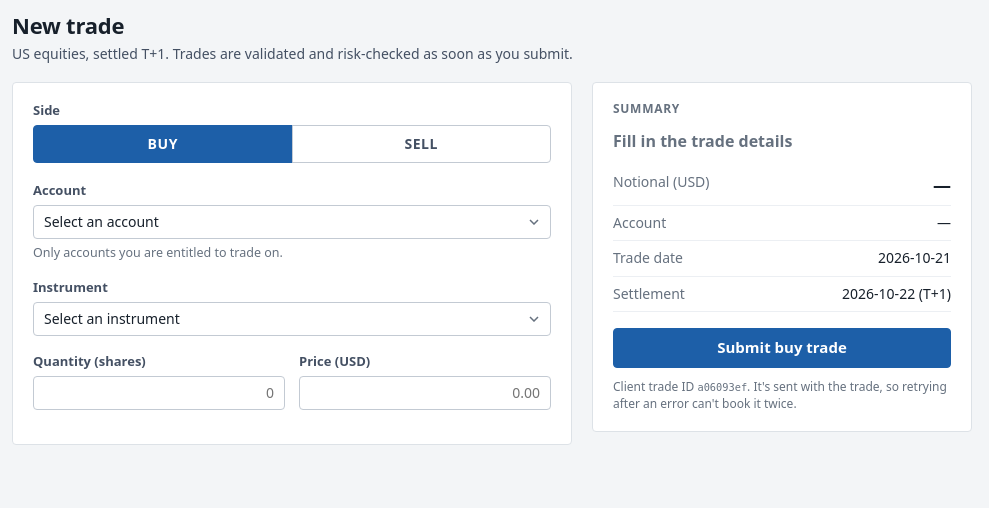
new trade form › checks required fields before sending anything
The width and height of the screenshot is (989, 508).
Step 1. Click the button "Submit buy trade" → (782, 348), box [613,328,951,368]
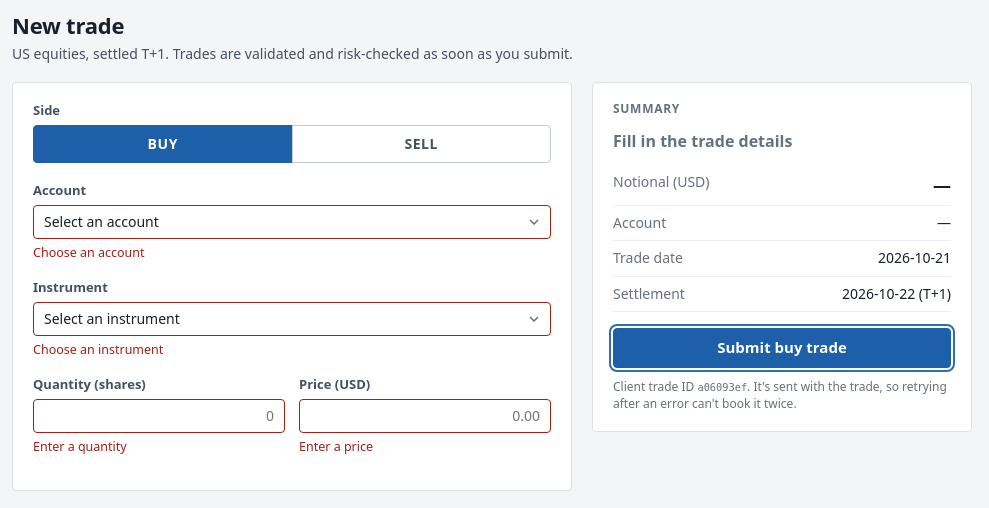
Result: the text "Choose an account" is shown at [33,244,145,261]
Result: the text "Choose an instrument" is shown at [33,341,163,358]
Result: the text "Enter a quantity" is shown at [33,438,127,455]
Step 2. Select "AAPL · Apple Inc." in the dropdown labelled "Instrument" → (292, 319), box [33,302,551,336]
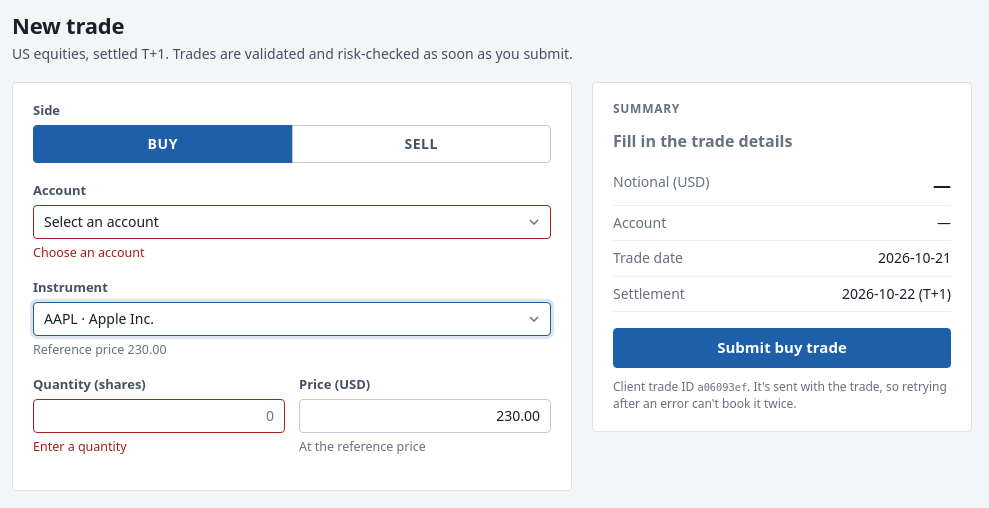
Result: the field labelled "Price (USD)" holds "230.00" at [299,399,551,433]
Result: the text "Enter a price" is gone
